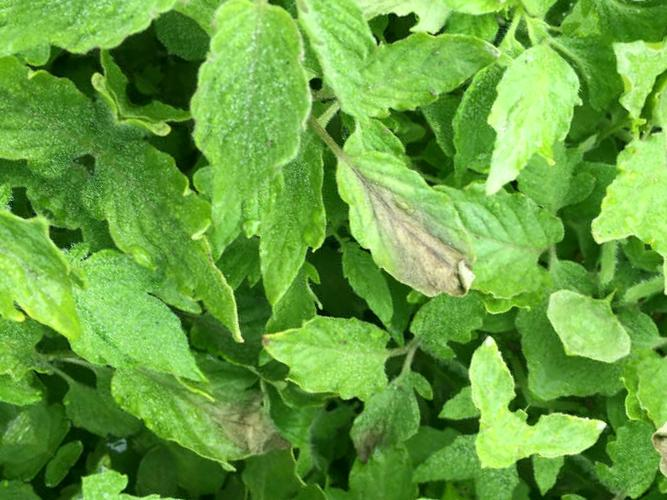Tomato mold leaf: (101, 0, 364, 257), (45, 119, 312, 366), (283, 102, 523, 333), (86, 302, 309, 500), (38, 231, 239, 410), (322, 0, 507, 181), (212, 0, 440, 139), (431, 33, 597, 220), (259, 271, 416, 426)
